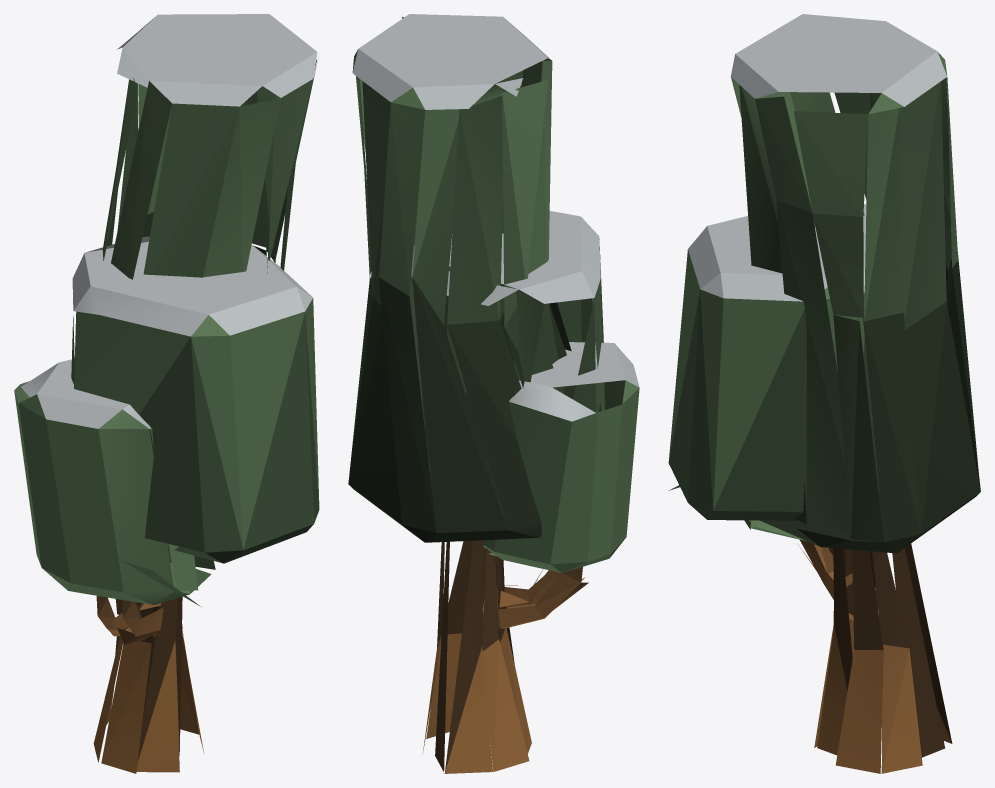
The model's file is angular_tree_stack__winter_low.glb.
3 renders of one model, left to right at view 1: azimuth 30°, elevation 25°; view 2: azimuth 150°, elevation 25°; view 3: azimuth 270°, elevation 25°, orthographic. The views are drawn at different scales.
Size of the model in its own units: 2.04 by 5.04 by 1.98.
